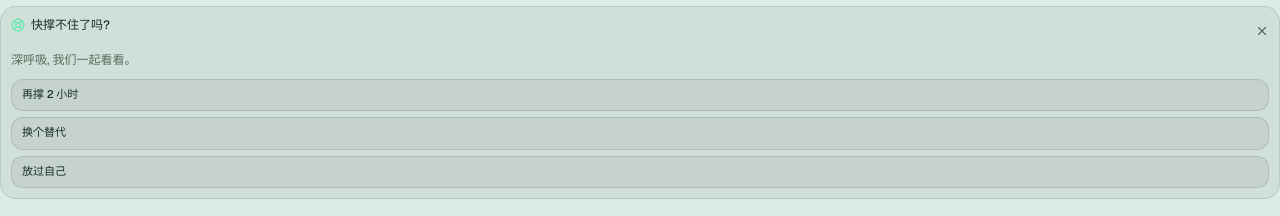
Test case: ActiveGuardsSos 降温对话 › 选择后收尾暖句替代按钮组 (release 档文案)
This screenshot has width=1280, height=216.
Click the button "放过自己".
click(44, 170)  # box [11,156,1269,188]
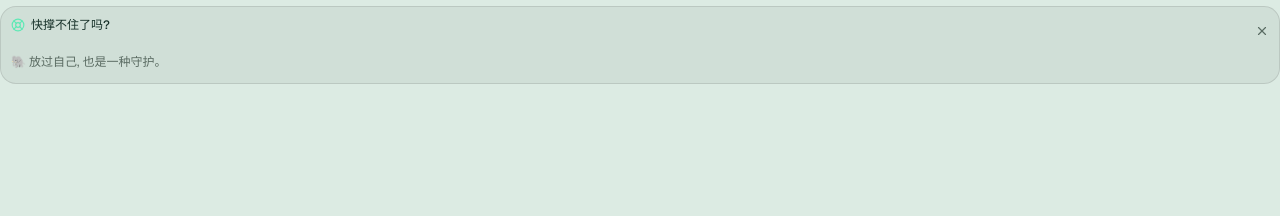
Expected: the text with test id "active-guards-sos-done" shows "放过自己, 也是一种守护", [29,54,166,70]
Expected: the button "再撑 2 小时" is gone
